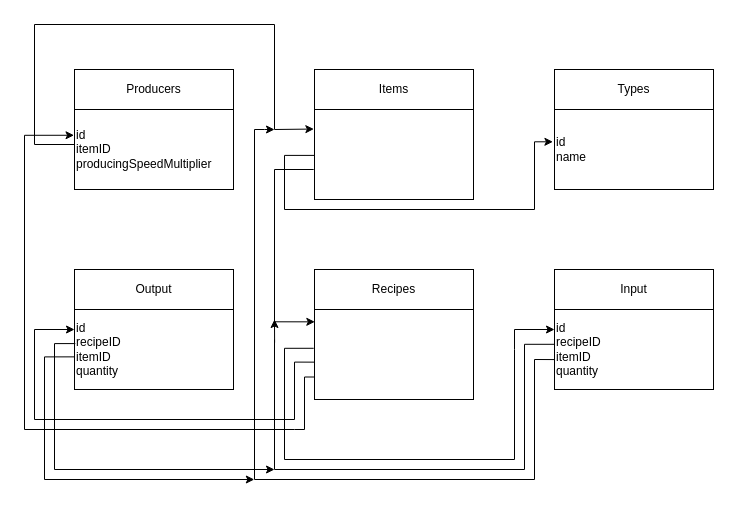
Image size: 731x505. Some labels were removed from this diagram. The centre of each missing label's shape, as x and y in pixels:
id name inputID outputID producerID iconPath: the point at 394,354
id name typeID recipeID iconPath: the point at 394,154
